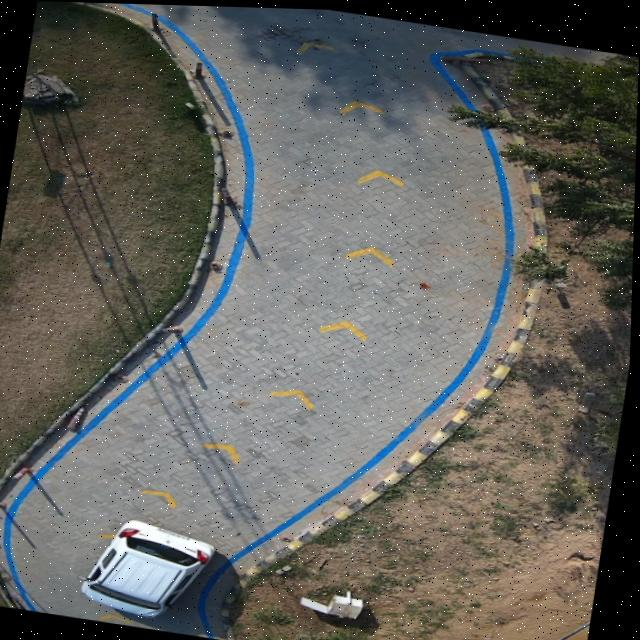car: (83, 518, 219, 616)
